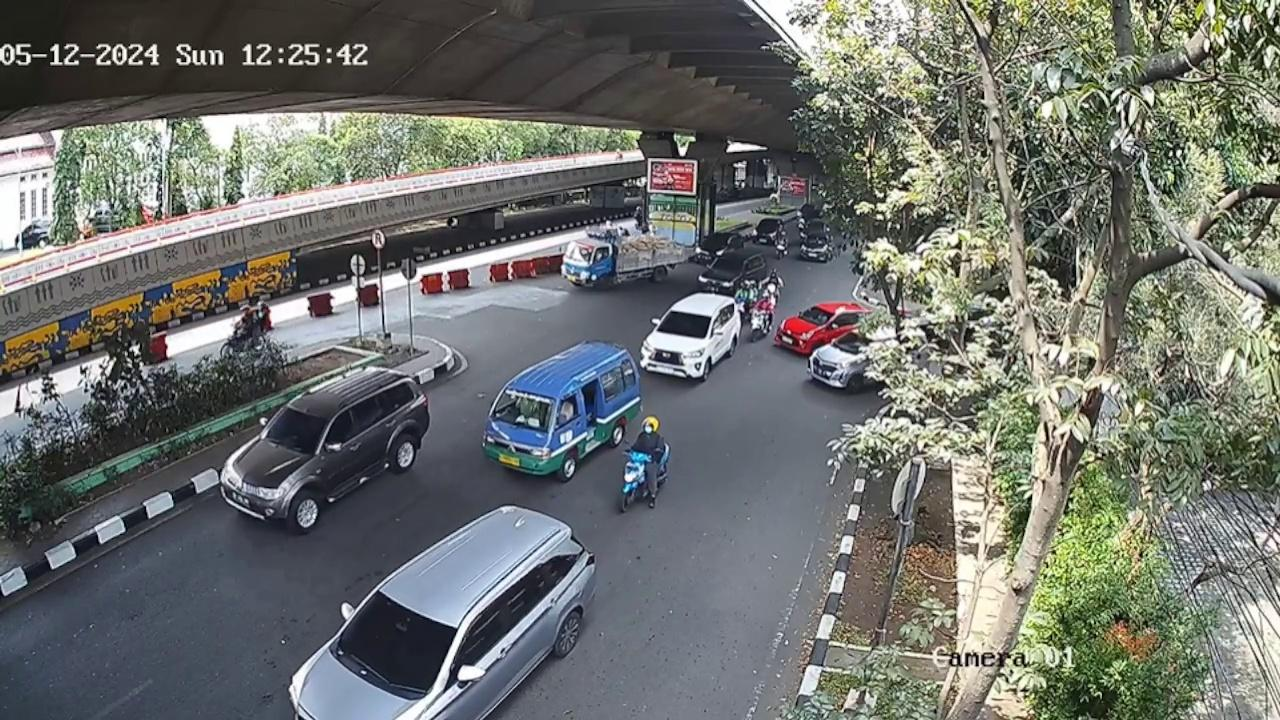tidak-pakai: (516, 395, 537, 421)
windshield: (330, 594, 463, 676), (266, 404, 324, 454), (493, 387, 552, 433), (658, 307, 712, 336)
